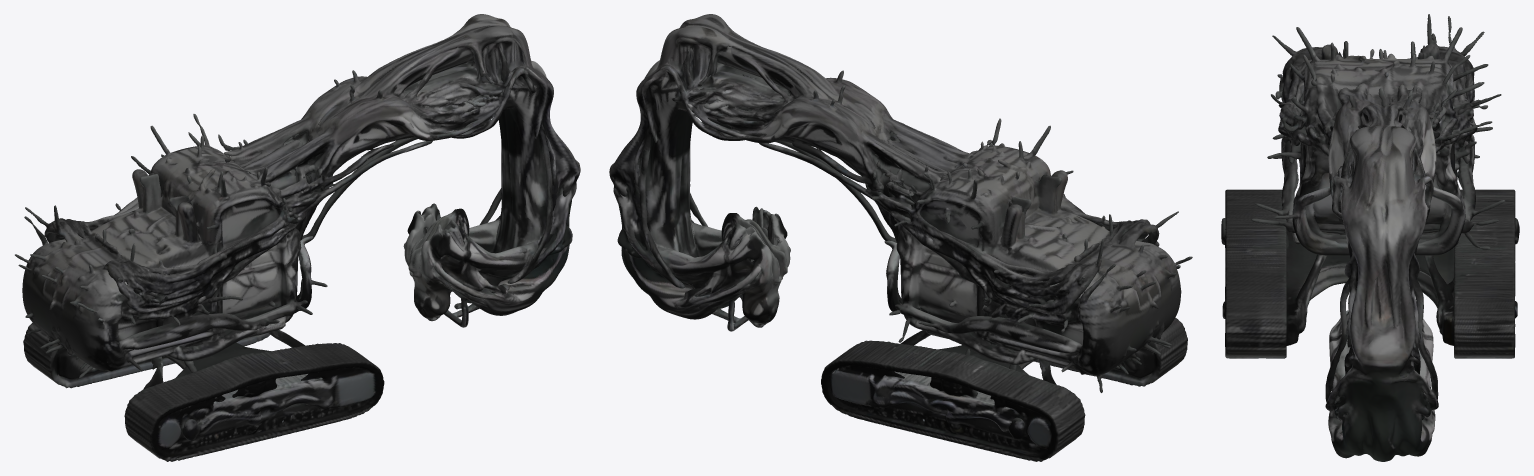
Rendered from infrastructure-neutral.glb.
3 renders of one model, left to right at view 1: azimuth 30°, elevation 25°; view 2: azimuth 150°, elevation 25°; view 3: azimuth 270°, elevation 25°, orthographic. The views are drawn at different scales.
Parts seen in each view (by area): view 1: tripo_node_07b3decd-5c62-4282-b358-098d25f7adee; view 2: tripo_node_07b3decd-5c62-4282-b358-098d25f7adee; view 3: tripo_node_07b3decd-5c62-4282-b358-098d25f7adee.
Part boxes in pixels (x1,y1,x2,y2): tripo_node_07b3decd-5c62-4282-b358-098d25f7adee: [15, 14, 580, 461]; tripo_node_07b3decd-5c62-4282-b358-098d25f7adee: [609, 14, 1192, 461]; tripo_node_07b3decd-5c62-4282-b358-098d25f7adee: [1221, 14, 1519, 461].
Size of the model in its own units: 1 by 0.523 by 0.4204.
Materials: 1 (1 with a texture image).
